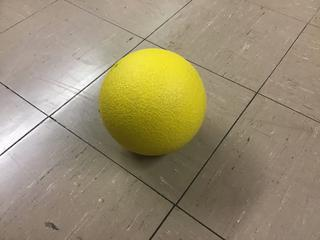power_cell: (95, 47, 206, 151)
